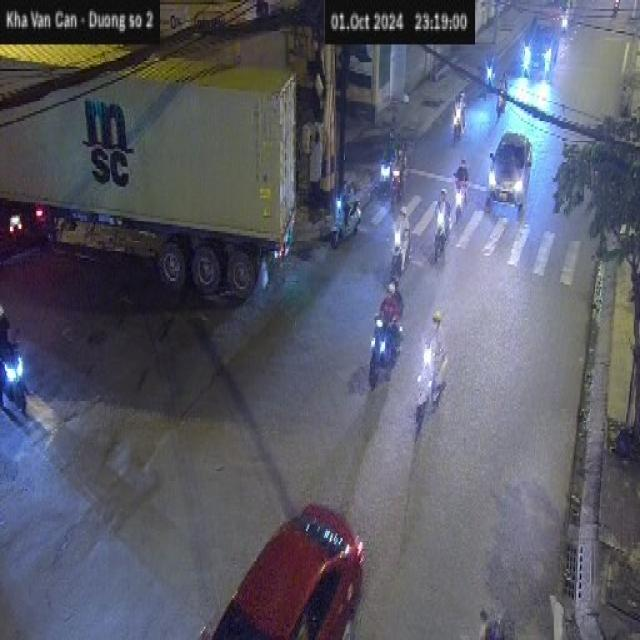car: (199, 500, 365, 638), (488, 131, 532, 209), (329, 178, 361, 249)
container-truck: (0, 8, 302, 313)
motorcycle: (412, 336, 448, 442), (368, 311, 402, 389), (432, 204, 450, 260), (452, 171, 468, 220)
